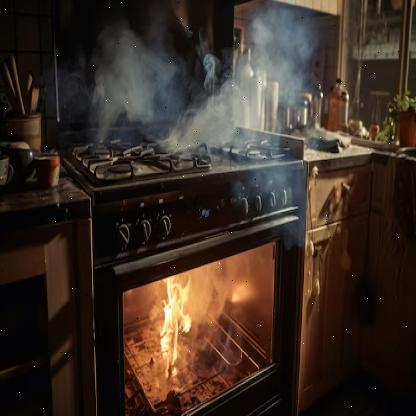fire: (150, 277, 193, 393)
smoke: (76, 0, 332, 241)
